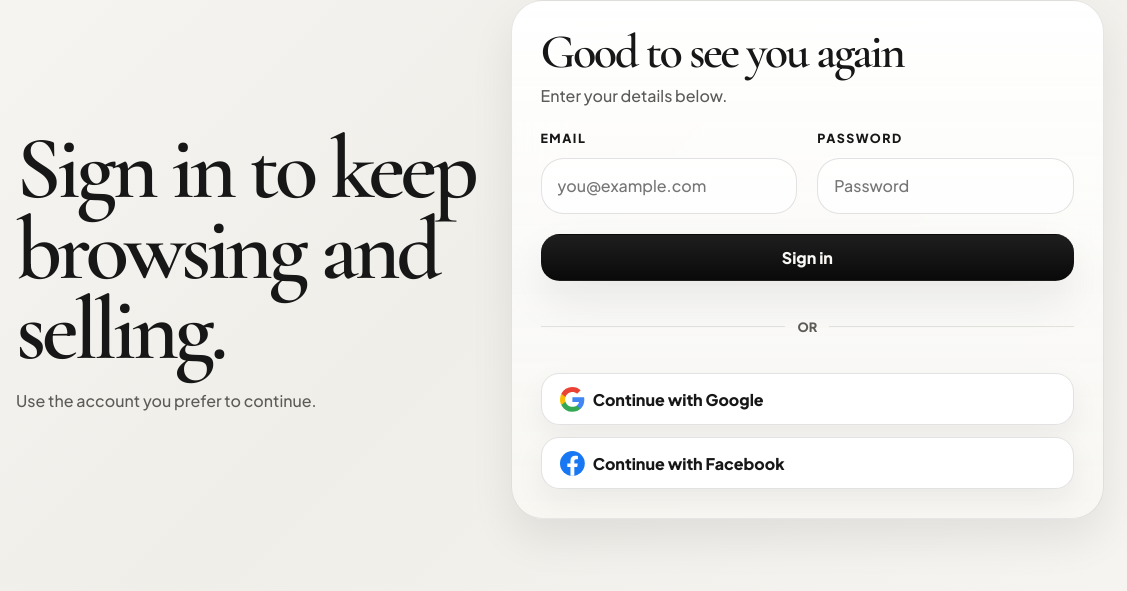
Test: LoginView › shows inline validation errors for invalid input
Type "not-an-email" into the field labelled "Email" at (669, 186), box x1=540 y1=158 x2=797 y2=214
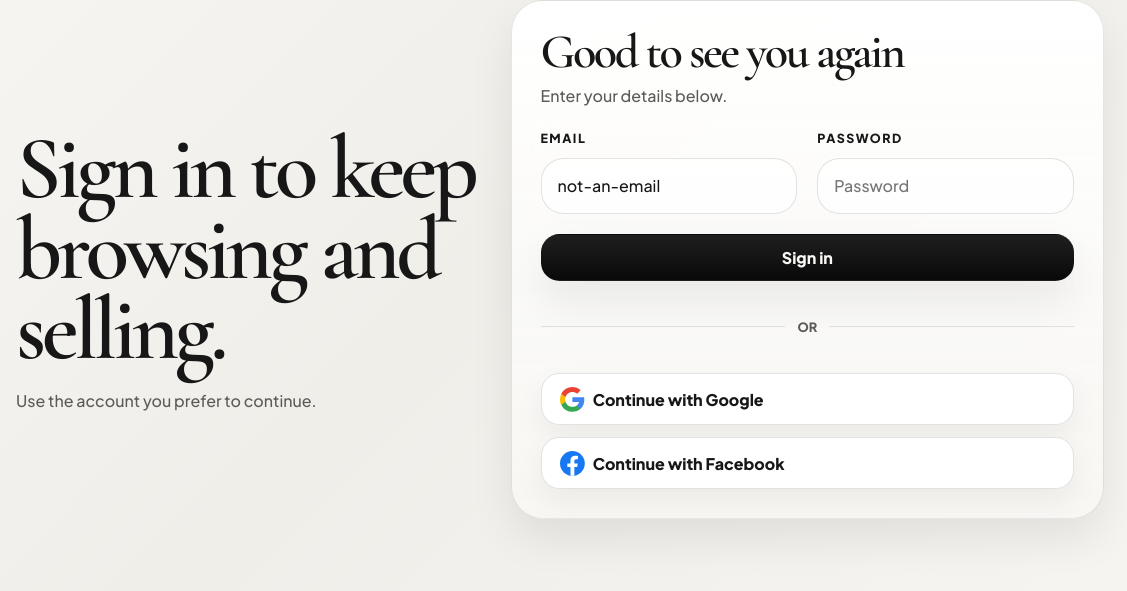
Submit the form, box x1=540 y1=129 x2=1074 y2=281
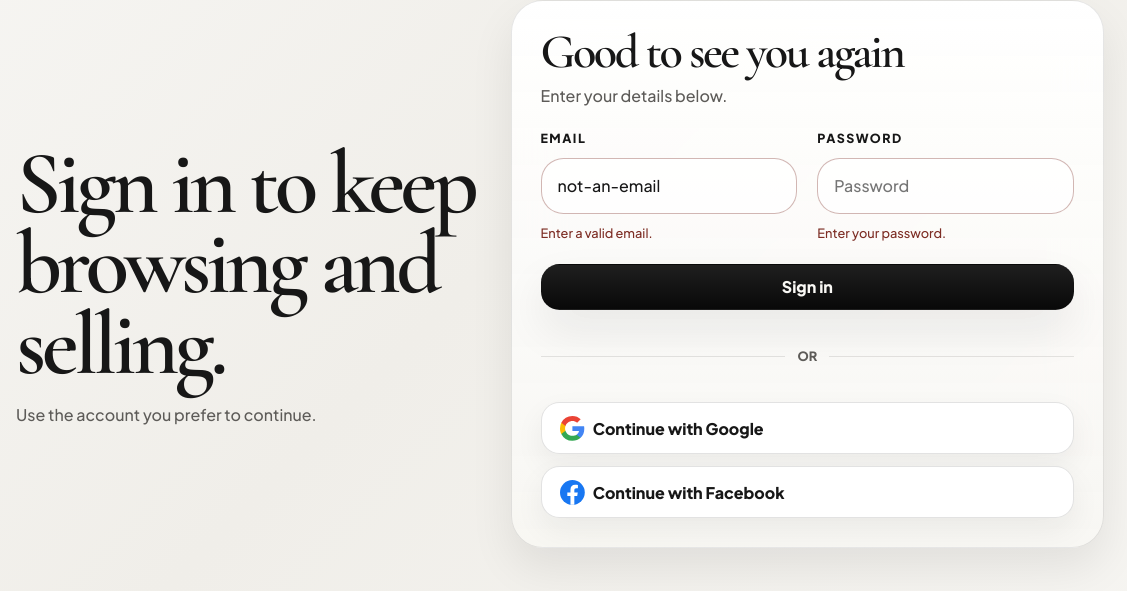
Check: the text "Enter a valid email." is shown, box x1=540 y1=225 x2=652 y2=241
Check: the text "Enter your password." is shown, box x1=817 y1=225 x2=946 y2=241
